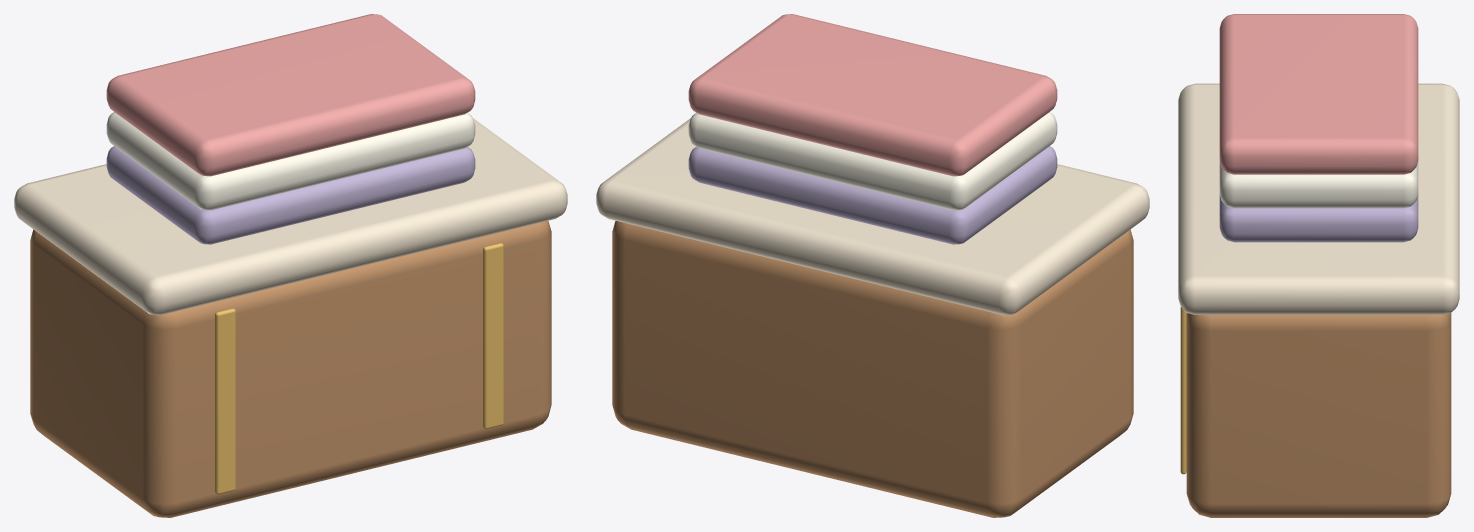
File: bedroomQuiltChest.glb
3 views of the same model, side by side, from view 1: azimuth 30°, elevation 25°; view 2: azimuth 150°, elevation 25°; view 3: azimuth 270°, elevation 25° (orthographic).
Parts seen in each view (by area): view 1: Linen chest, Chest lid, Folded quilt.002, Folded quilt.001, Folded quilt, Chest strap, Chest strap.001; view 2: Linen chest, Chest lid, Folded quilt.002, Folded quilt.001, Folded quilt; view 3: Linen chest, Chest lid, Folded quilt.002, Folded quilt.001, Folded quilt, Chest strap.001.
Part boxes in pixels (x1,y1,x2,y2): Linen chest: (30, 221, 551, 517); Chest lid: (14, 118, 567, 315); Folded quilt.002: (106, 14, 475, 176); Folded quilt.001: (106, 112, 475, 210); Folded quilt: (106, 146, 475, 244); Chest strap: (215, 308, 235, 494); Chest strap.001: (483, 243, 503, 429); Linen chest: (612, 221, 1133, 517); Chest lid: (596, 118, 1149, 315); Folded quilt.002: (688, 14, 1057, 176); Folded quilt.001: (688, 112, 1057, 210); Folded quilt: (688, 146, 1057, 244); Linen chest: (1186, 313, 1451, 517); Chest lid: (1178, 83, 1459, 314); Folded quilt.002: (1219, 14, 1418, 174); Folded quilt.001: (1219, 161, 1418, 208); Folded quilt: (1219, 195, 1418, 242); Chest strap.001: (1180, 307, 1186, 474).
Bounding box in the file's own units: 1.17 × 0.9375 × 0.68.
